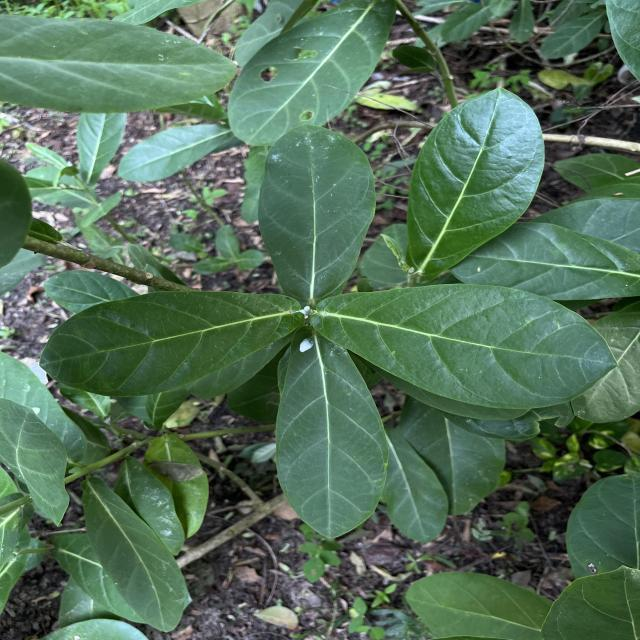Calotropis gigantea: (308, 281, 622, 411), (37, 286, 305, 398), (404, 86, 547, 286), (226, 0, 400, 148), (271, 326, 388, 541), (256, 123, 379, 301), (451, 222, 640, 300)
